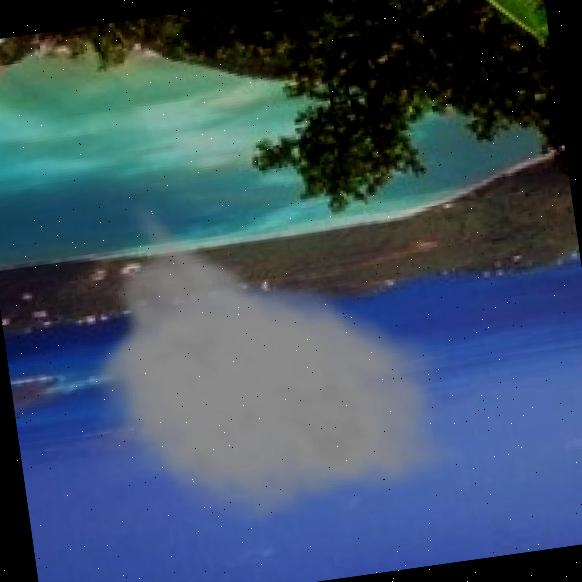smoke: (56, 153, 475, 547)
